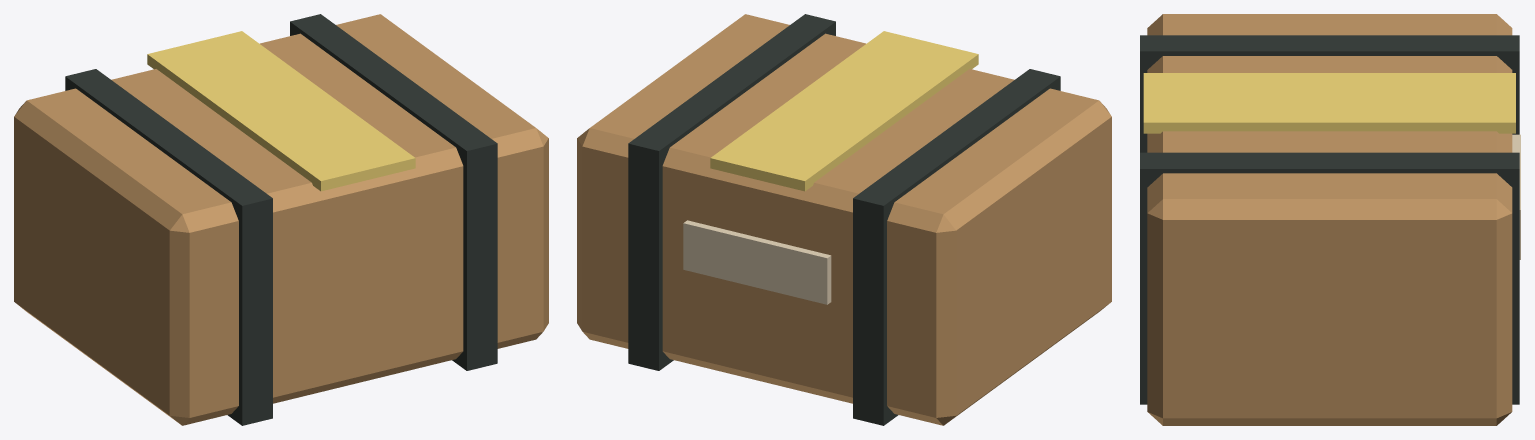
File: sm_cargo_package_heavy.glb
The picture shows the model from 3 angles, left to right: view 1: azimuth 30°, elevation 25°; view 2: azimuth 150°, elevation 25°; view 3: azimuth 270°, elevation 25°; orthographic projection. The views are drawn at different scales.
Visible parts, largest first — view 1: CargoBox, PackingTape, HeavyStrap.001, HeavyStrap; view 2: CargoBox, PackingTape, HeavyStrap.001, HeavyStrap, ShippingLabel; view 3: CargoBox, PackingTape, HeavyStrap.001, HeavyStrap, ShippingLabel.
Part boxes in pixels (x1,y1,x2,y2): CargoBox: [14, 14, 548, 425]; PackingTape: [147, 31, 415, 191]; HeavyStrap.001: [290, 14, 497, 370]; HeavyStrap: [65, 69, 272, 425]; CargoBox: [577, 14, 1111, 425]; PackingTape: [710, 31, 978, 191]; HeavyStrap.001: [628, 14, 835, 370]; HeavyStrap: [853, 69, 1060, 425]; ShippingLabel: [683, 220, 831, 304]; CargoBox: [1147, 14, 1512, 425]; PackingTape: [1143, 73, 1515, 133]; HeavyStrap.001: [1140, 152, 1519, 404]; HeavyStrap: [1140, 35, 1519, 152]; ShippingLabel: [1512, 134, 1520, 259].
Size of the model in its own units: 1.35 by 0.7619 by 1.1.
